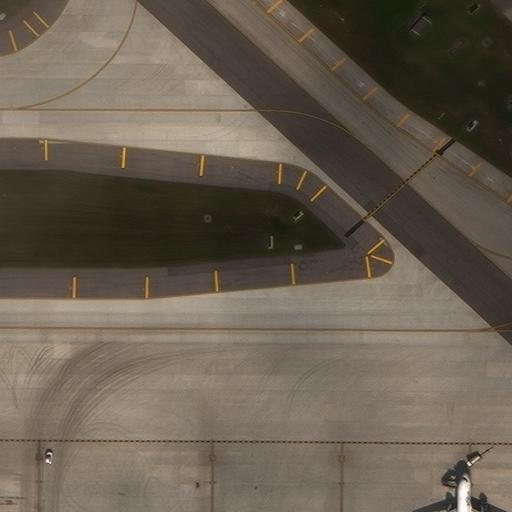Medium Civil Transport: (429, 472, 498, 512)
